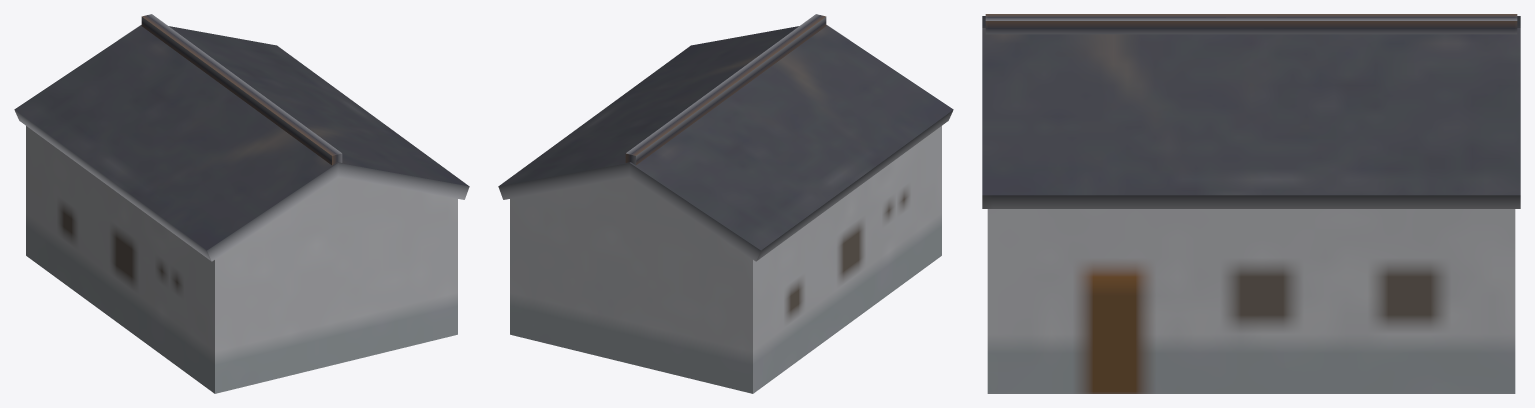
Rendered from Coach_Building_Residential_L1_03_Mod.fbx.
3 views of the same model, side by side, from view 1: azimuth 30°, elevation 25°; view 2: azimuth 150°, elevation 25°; view 3: azimuth 270°, elevation 25° (orthographic). The views are drawn at different scales.
Parts seen in each view (by area): view 1: Coach_Building_Residential_L1_03_Mod; view 2: Coach_Building_Residential_L1_03_Mod; view 3: Coach_Building_Residential_L1_03_Mod.
Part boxes in pixels (<box>): Coach_Building_Residential_L1_03_Mod: <box>14,14,469,393</box>; Coach_Building_Residential_L1_03_Mod: <box>498,14,953,393</box>; Coach_Building_Residential_L1_03_Mod: <box>982,14,1520,393</box>.
Size of the model in its own units: 619 by 473 by 786.
